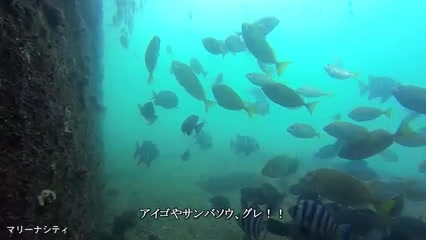azi: (238, 20, 291, 76), (169, 57, 217, 109), (209, 81, 263, 120)
ishidai: (289, 197, 355, 239)
smallfish: (284, 118, 323, 143), (143, 86, 183, 110), (322, 60, 362, 83), (129, 139, 163, 166)
